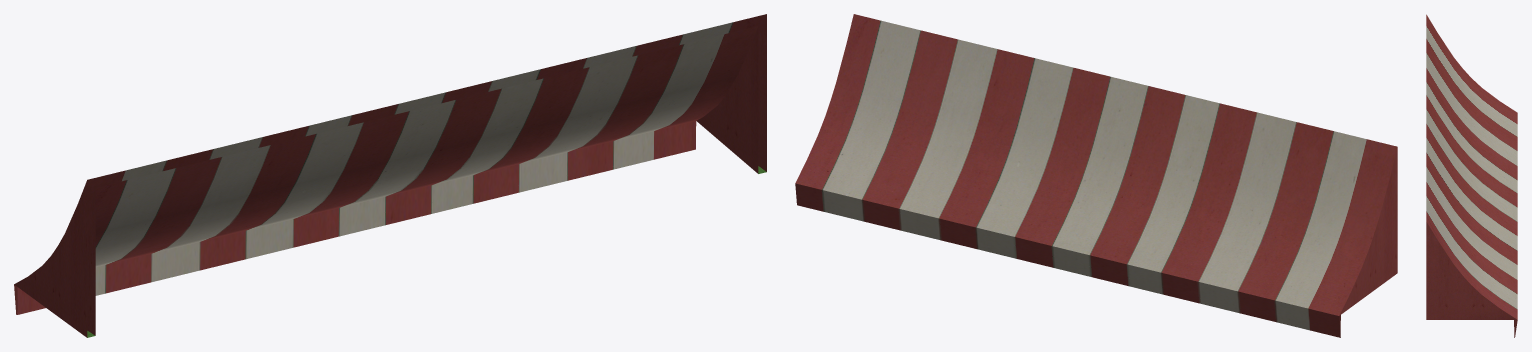
The picture shows the model from 3 angles, left to right: view 1: azimuth 30°, elevation 25°; view 2: azimuth 150°, elevation 25°; view 3: azimuth 270°, elevation 25°; orthographic projection. The views are drawn at different scales.
Visible parts, largest first — view 1: Awn (7); view 2: Awn (7); view 3: Awn (7).
Part boxes in pixels (x1,y1,x2,y2): Awn (7): (14, 14, 766, 337); Awn (7): (795, 14, 1397, 337); Awn (7): (1426, 14, 1517, 337).
Size of the model in its own units: 1278 by 336 by 239.
